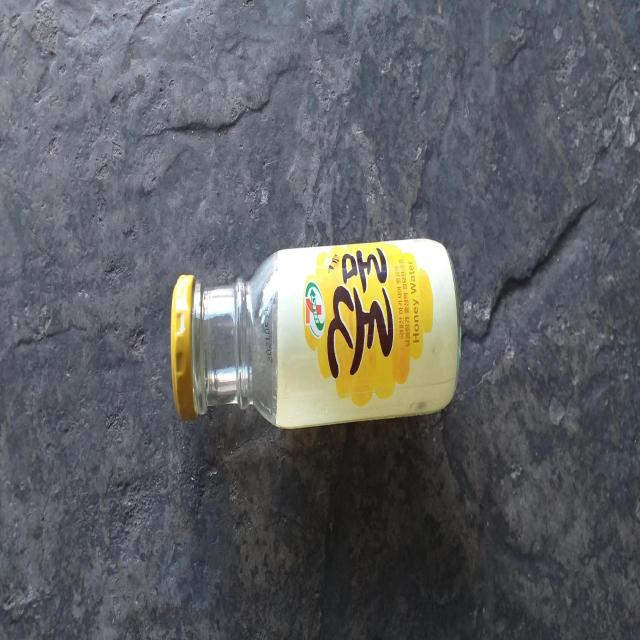glass: (171, 238, 461, 428)
